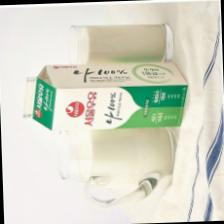milk: (20, 58, 190, 132)
